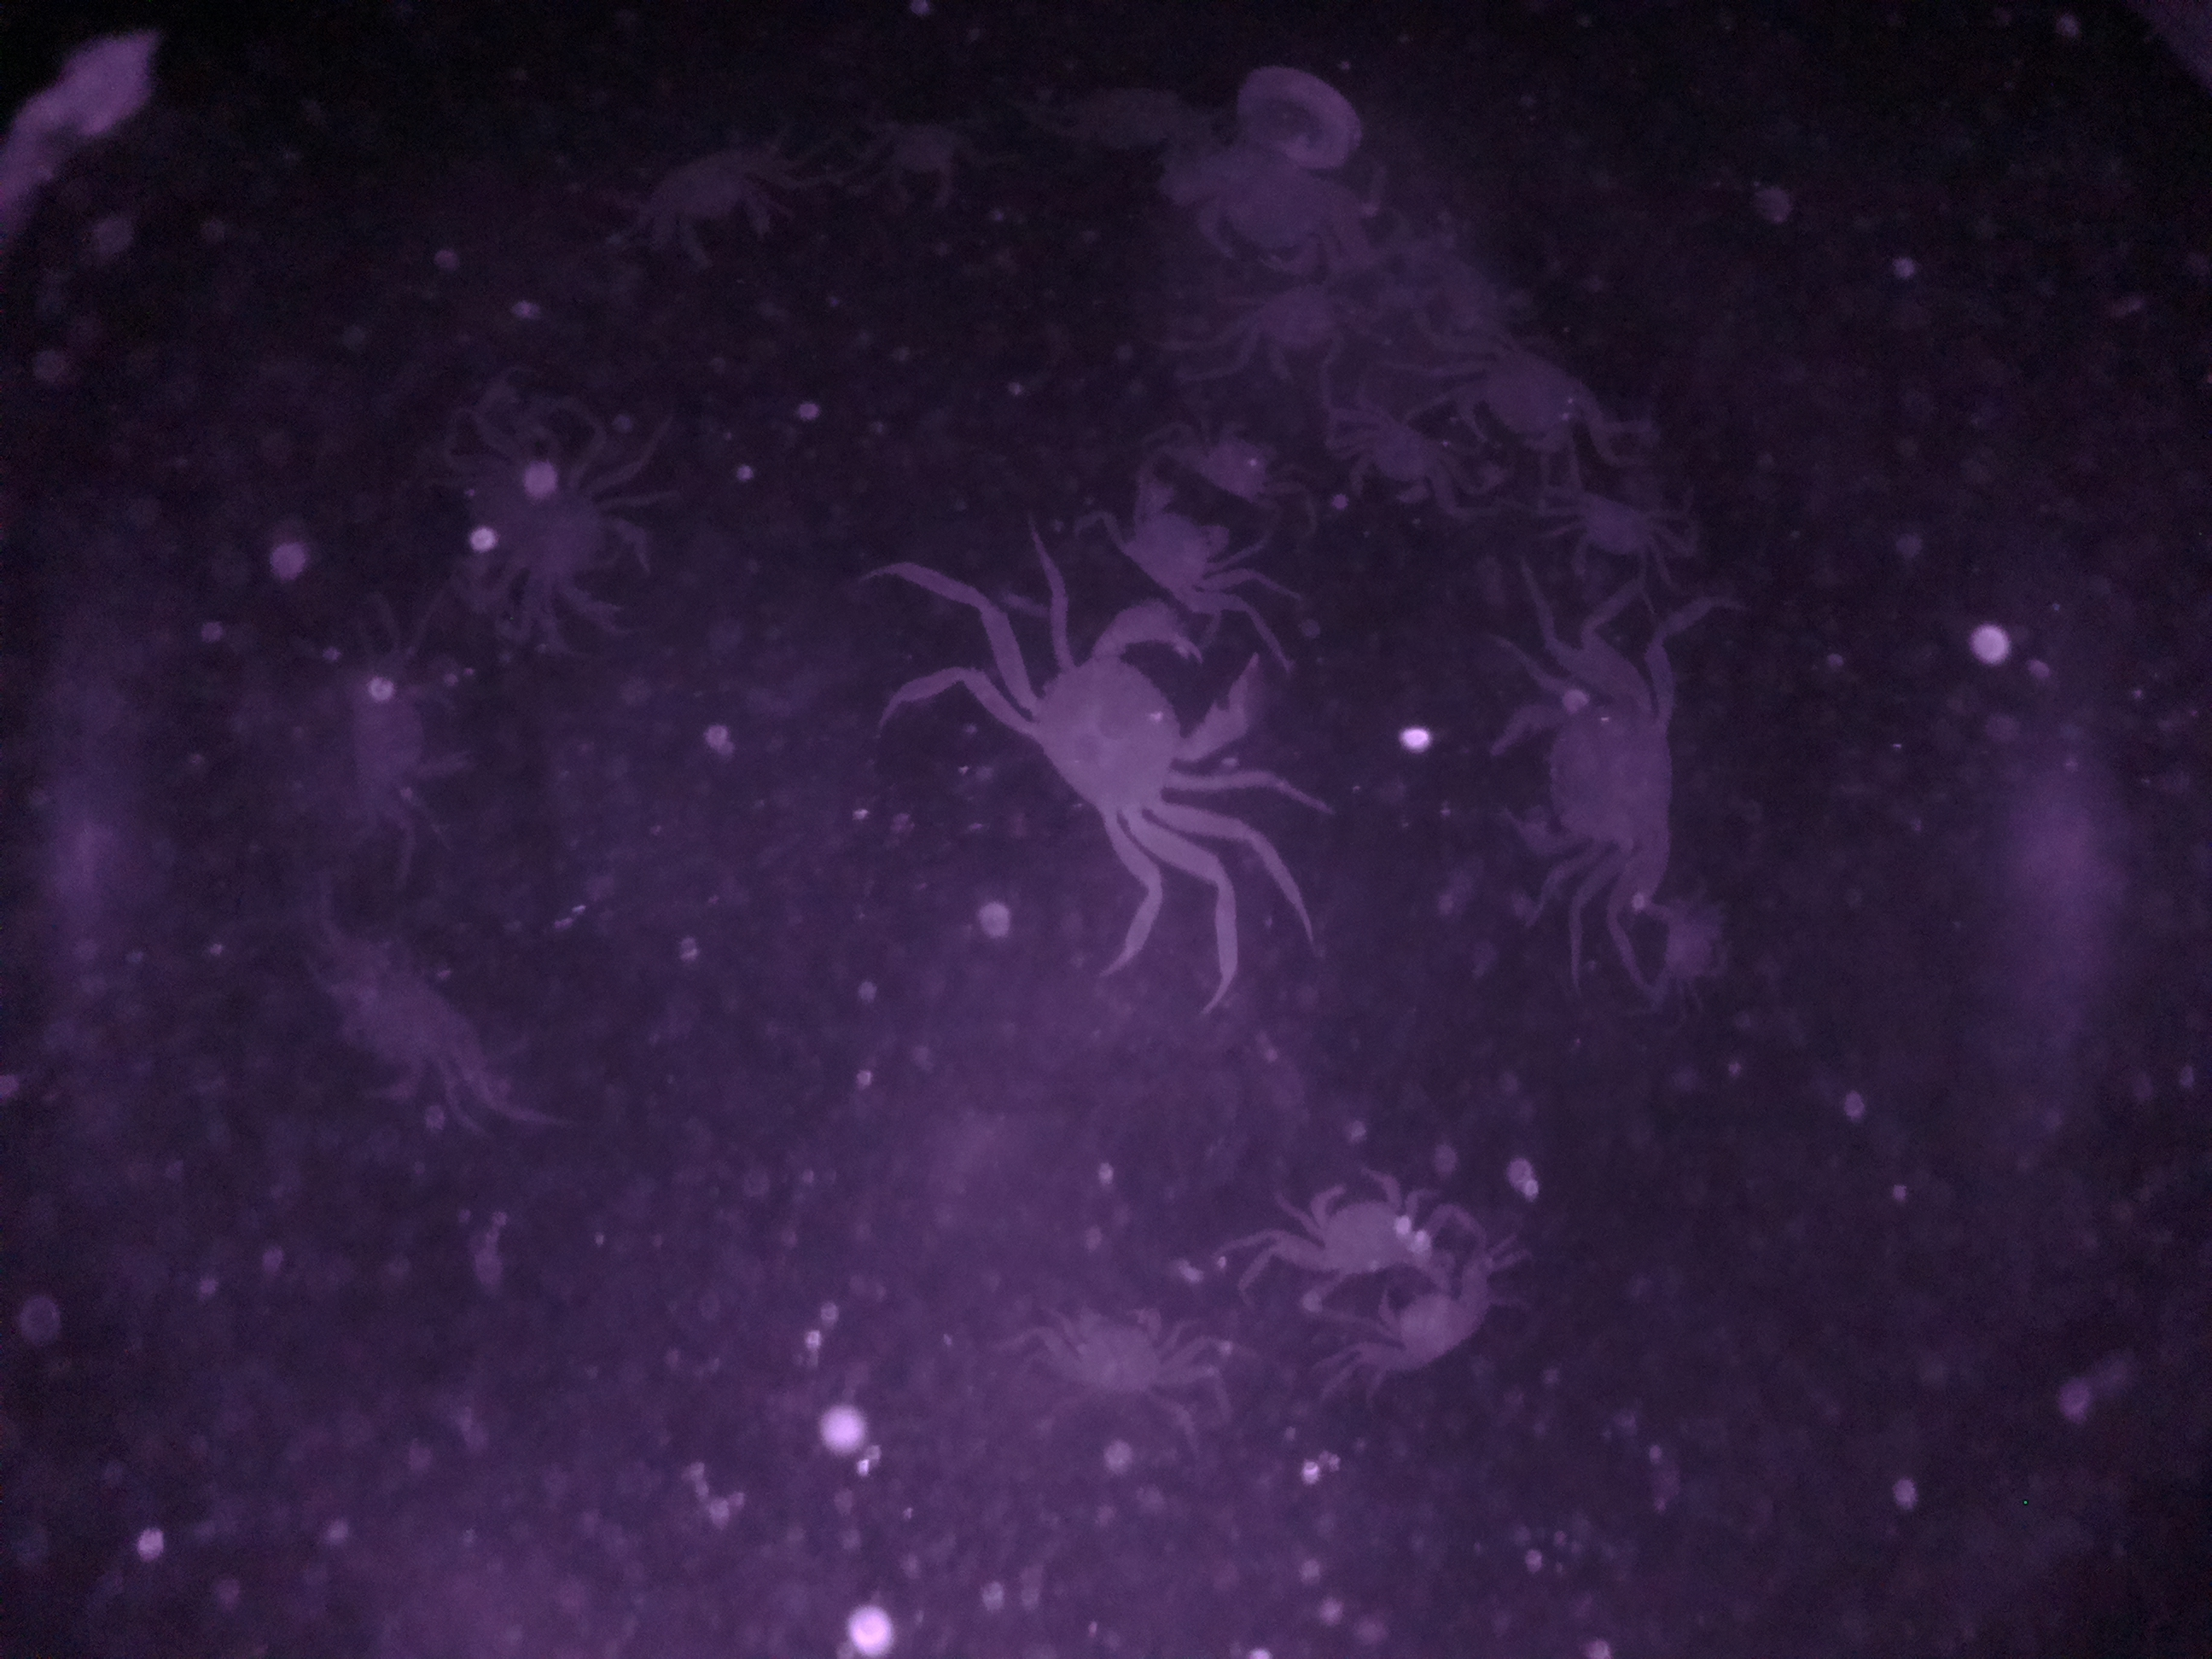Crab: (975, 599, 1268, 866), (1486, 662, 1696, 899), (1090, 460, 1266, 610), (1446, 331, 1615, 484), (1261, 1162, 1435, 1305), (1327, 404, 1458, 519)
